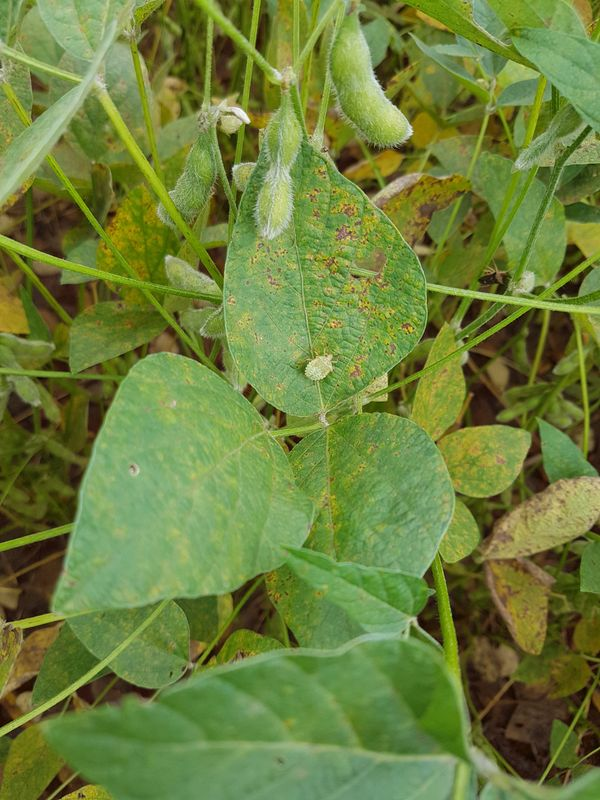Euschistus_heros_adulto: (473, 259, 513, 296)
Euschistus_heros_ninfa: (290, 344, 347, 392)
